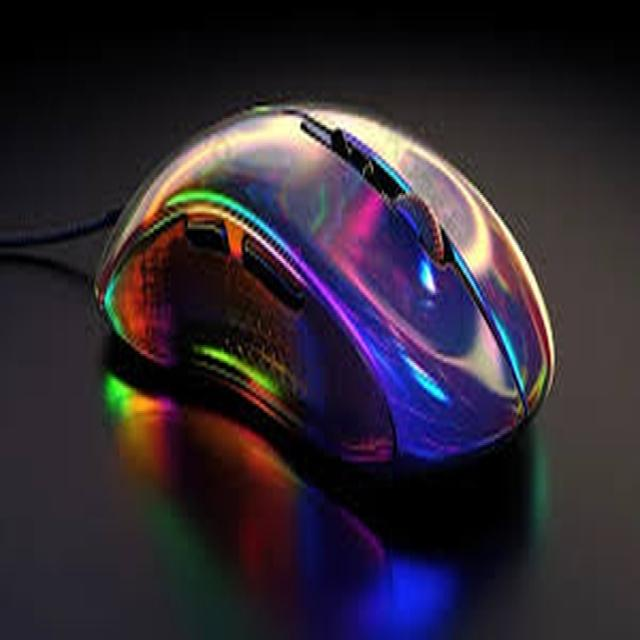mouse: (89, 28, 559, 474)
